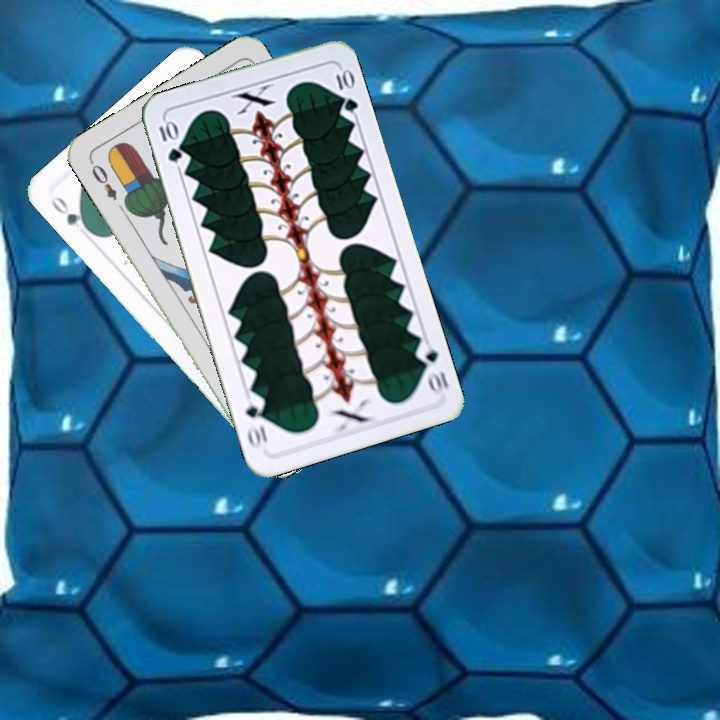EO: (85, 156, 120, 203)
G10: (412, 341, 451, 396), (155, 116, 185, 165)
GO: (47, 192, 95, 236)
